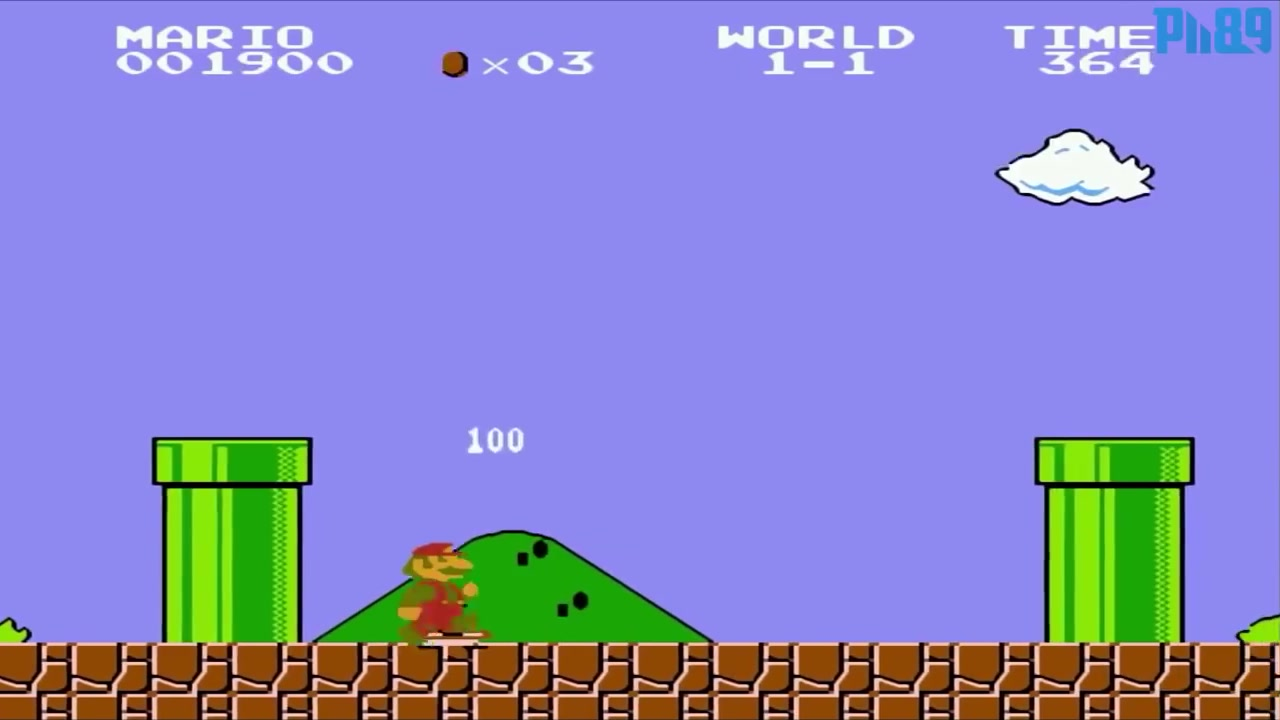mario: (390, 542, 482, 641)
